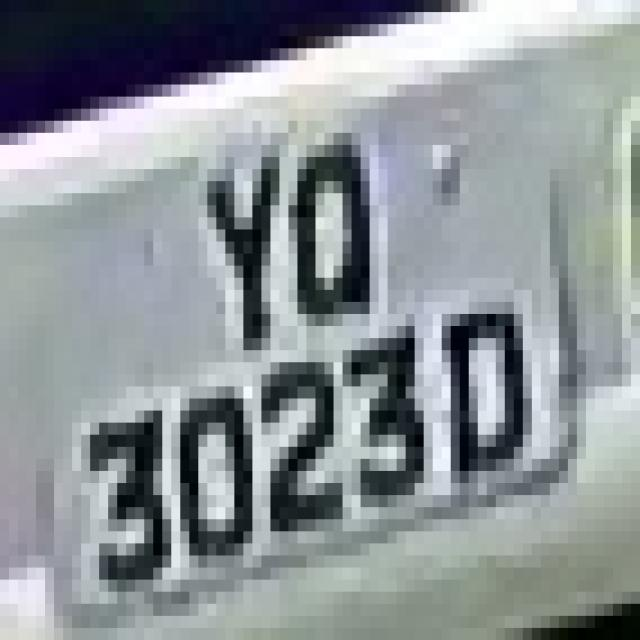0: (162, 374, 270, 592)
2: (244, 338, 360, 544)
3: (63, 374, 171, 628), (334, 326, 442, 495)
D: (433, 278, 541, 519)
Q: (252, 97, 388, 350)
Y: (172, 109, 298, 338)
